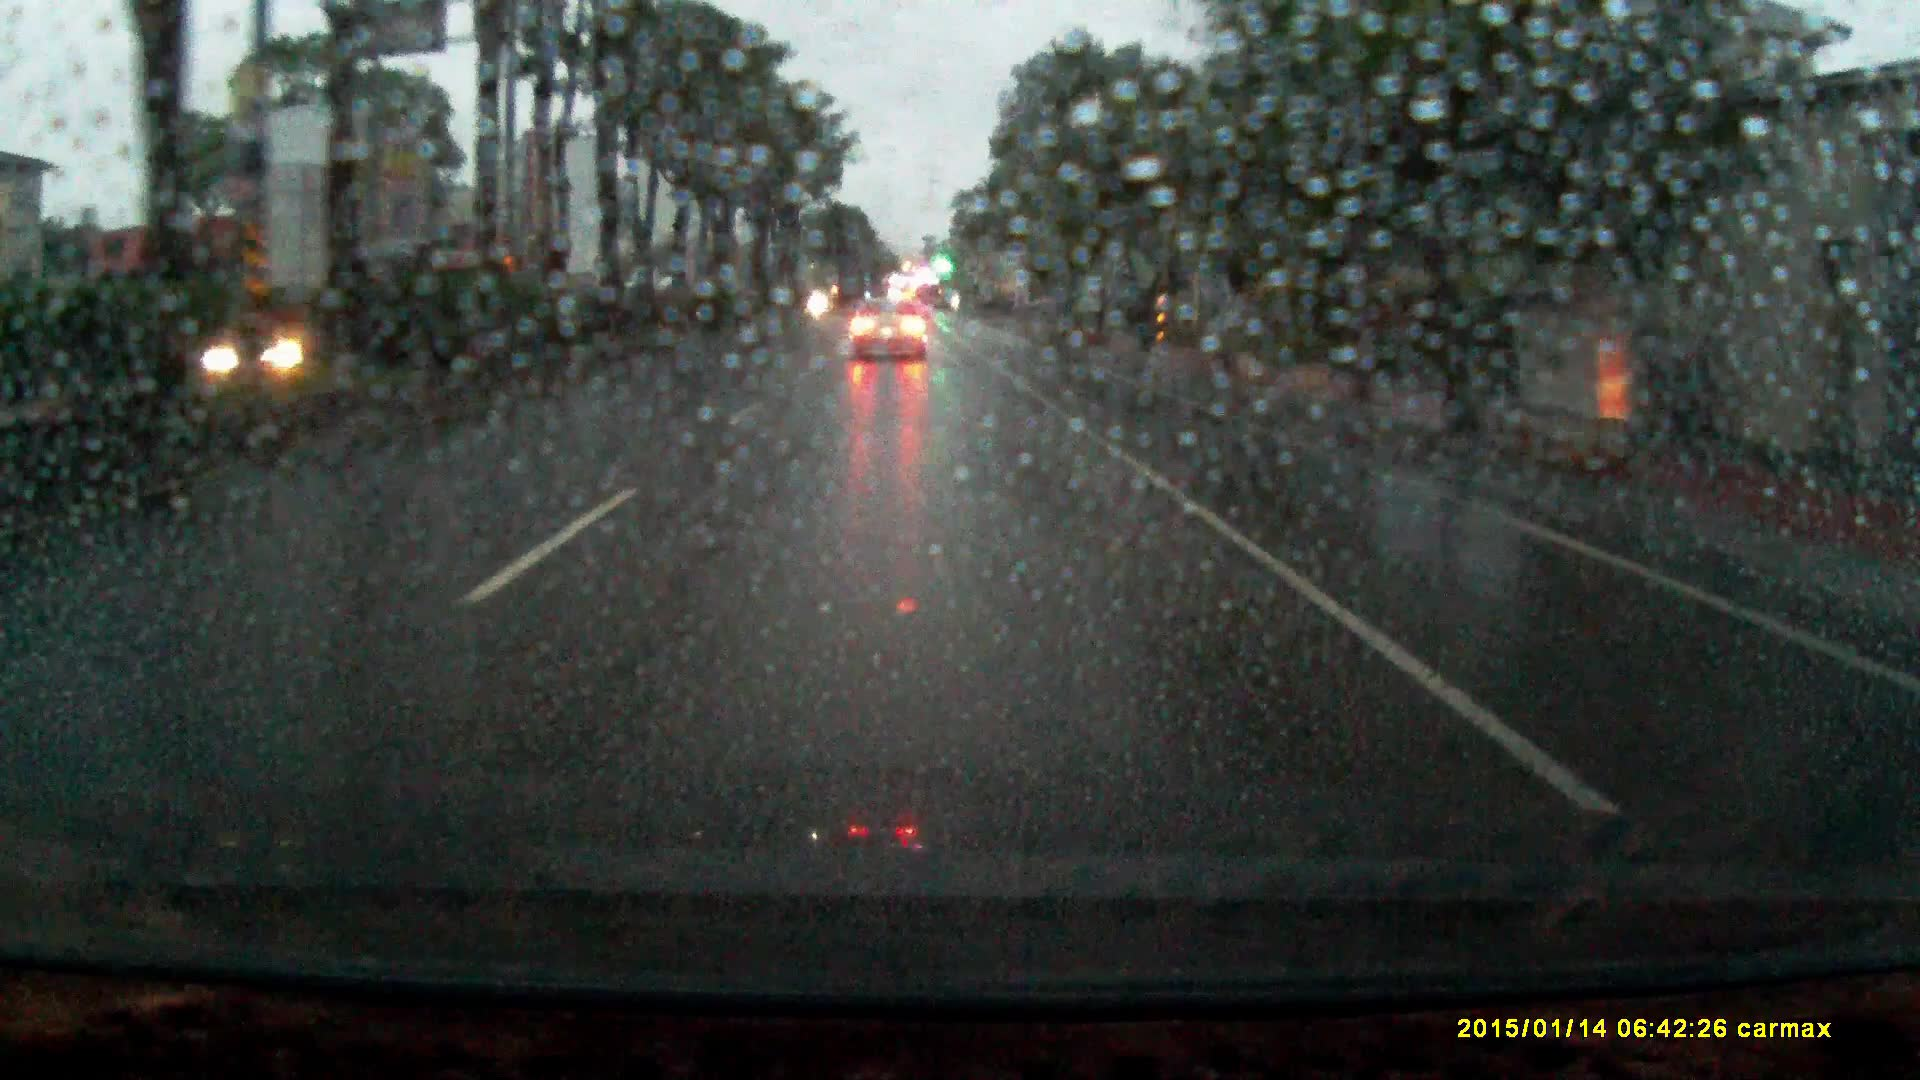vehicle: (848, 291, 930, 361)
